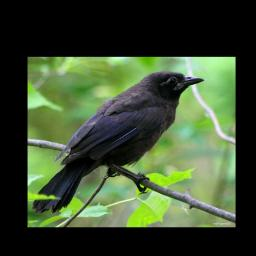Crow: (30, 70, 204, 215)
